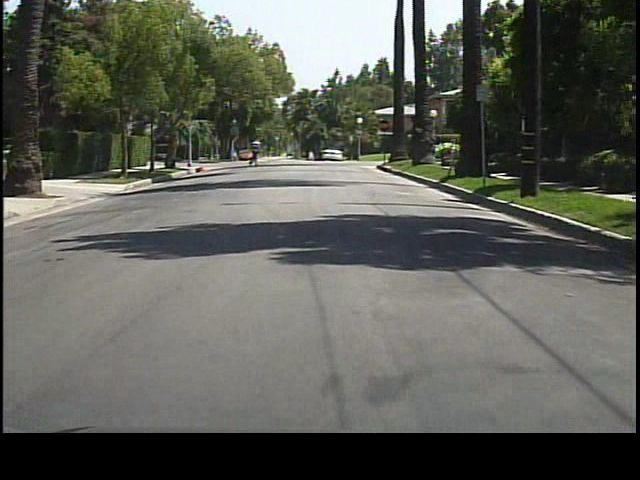person: (249, 137, 263, 169)
